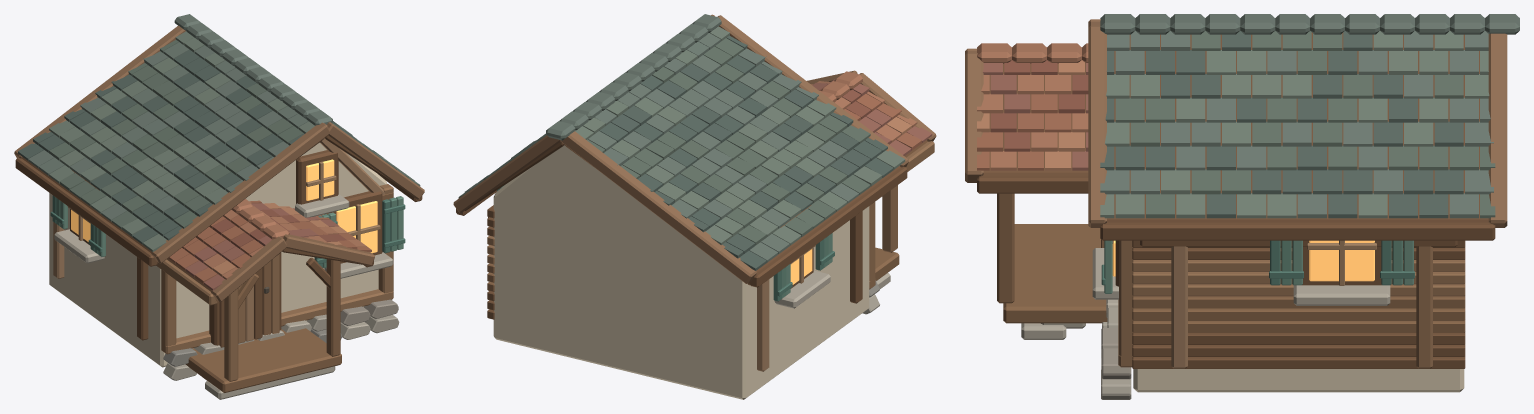
Rendered from shed.glb.
3 renders of one model, left to right at view 1: azimuth 30°, elevation 25°; view 2: azimuth 150°, elevation 25°; view 3: azimuth 270°, elevation 25°, orthographic. The views are drawn at different scales.
Visible parts, largest first — view 1: shed Warm limewash 03, shed Slate green shingles 03, shed Slate green shingles 01, shed Oak end grain 01, shed Slate green shingles 02, shed Oiled oak 01, shed Slate green shingles 04, shed Oiled oak 02, shed Oiled oak 03, shed Warm slate 03, shed Fired clay 02, shed Honey glass 01 (+12 smaller); view 2: shed Warm limewash 03, shed Slate green shingles 03, shed Slate green shingles 01, shed Slate green shingles 02, shed Slate green shingles 04, shed Oak end grain 01, shed Oiled oak 01, shed Oiled oak 03, shed Fired clay 03, shed Fired clay 04, shed Oiled oak 04, shed Warm slate 03 (+3 smaller); view 3: shed Oiled oak 01, shed Slate green shingles 03, shed Slate green shingles 01, shed Oiled oak 02, shed Slate green shingles 04, shed Slate green shingles 02, shed Oiled oak 03, shed Oak end grain 01, shed Warm limewash 03, shed Fired clay 03, shed Warm slate 03, shed Fired clay 02 (+11 smaller).
Part boxes in pixels (bbox=[...]): shed Warm limewash 03: bbox=[49, 142, 387, 367]; shed Slate green shingles 03: bbox=[28, 14, 408, 221]; shed Slate green shingles 01: bbox=[18, 50, 396, 244]; shed Oak end grain 01: bbox=[14, 25, 424, 301]; shed Slate green shingles 02: bbox=[49, 40, 403, 229]; shed Oiled oak 01: bbox=[15, 135, 422, 347]; shed Slate green shingles 04: bbox=[49, 31, 420, 251]; shed Oiled oak 02: bbox=[185, 192, 393, 392]; shed Oiled oak 03: bbox=[156, 184, 393, 381]; shed Warm slate 03: bbox=[54, 194, 393, 399]; shed Fired clay 02: bbox=[168, 200, 371, 283]; shed Honey glass 01: bbox=[71, 159, 377, 253]; shed Warm limewash 03: bbox=[493, 145, 869, 399]; shed Slate green shingles 03: bbox=[464, 14, 859, 262]; shed Slate green shingles 01: bbox=[478, 35, 893, 270]; shed Slate green shingles 02: bbox=[458, 38, 870, 245]; shed Slate green shingles 04: bbox=[499, 26, 905, 245]; shed Oak end grain 01: bbox=[453, 14, 936, 283]; shed Oiled oak 01: bbox=[456, 140, 927, 319]; shed Oiled oak 03: bbox=[487, 141, 934, 289]; shed Fired clay 03: bbox=[811, 71, 917, 142]; shed Fired clay 04: bbox=[812, 79, 932, 155]; shed Oiled oak 04: bbox=[757, 279, 769, 371]; shed Warm slate 03: bbox=[774, 270, 890, 308]; shed Oiled oak 01: bbox=[977, 32, 1495, 368]; shed Slate green shingles 03: bbox=[1100, 14, 1519, 218]; shed Slate green shingles 01: bbox=[1100, 31, 1463, 218]; shed Oiled oak 02: bbox=[997, 193, 1465, 332]; shed Slate green shingles 04: bbox=[1100, 31, 1489, 218]; shed Slate green shingles 02: bbox=[1115, 30, 1495, 218]; shed Oiled oak 03: bbox=[1101, 239, 1465, 368]; shed Oak end grain 01: bbox=[965, 19, 1507, 227]; shed Warm limewash 03: bbox=[1133, 369, 1464, 392]; shed Fired clay 03: bbox=[977, 43, 1088, 170]; shed Warm slate 03: bbox=[1021, 248, 1390, 369]; shed Fired clay 02: bbox=[977, 93, 1071, 170].
Bounding box in the file's own units: 4.48 × 3.59 × 5.4.
